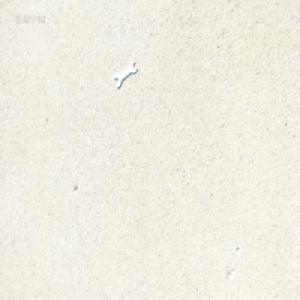Wrench: (114, 61, 137, 90)
